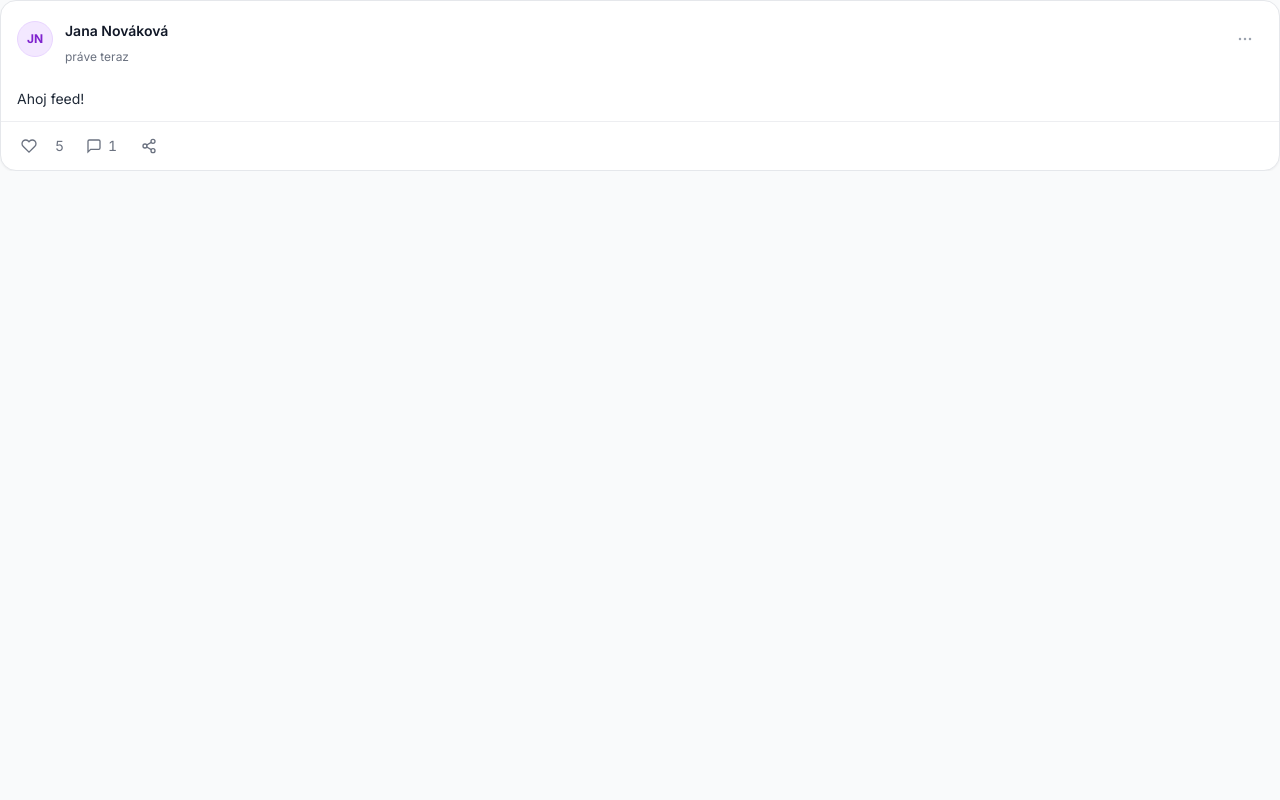
FeedPostCard – srdiečko vs. číslo lajkov › opens the list from the count without toggling the like
The image size is (1280, 800).
Click the button with test id "feed-like-count": (60, 146) [49, 128, 70, 164]
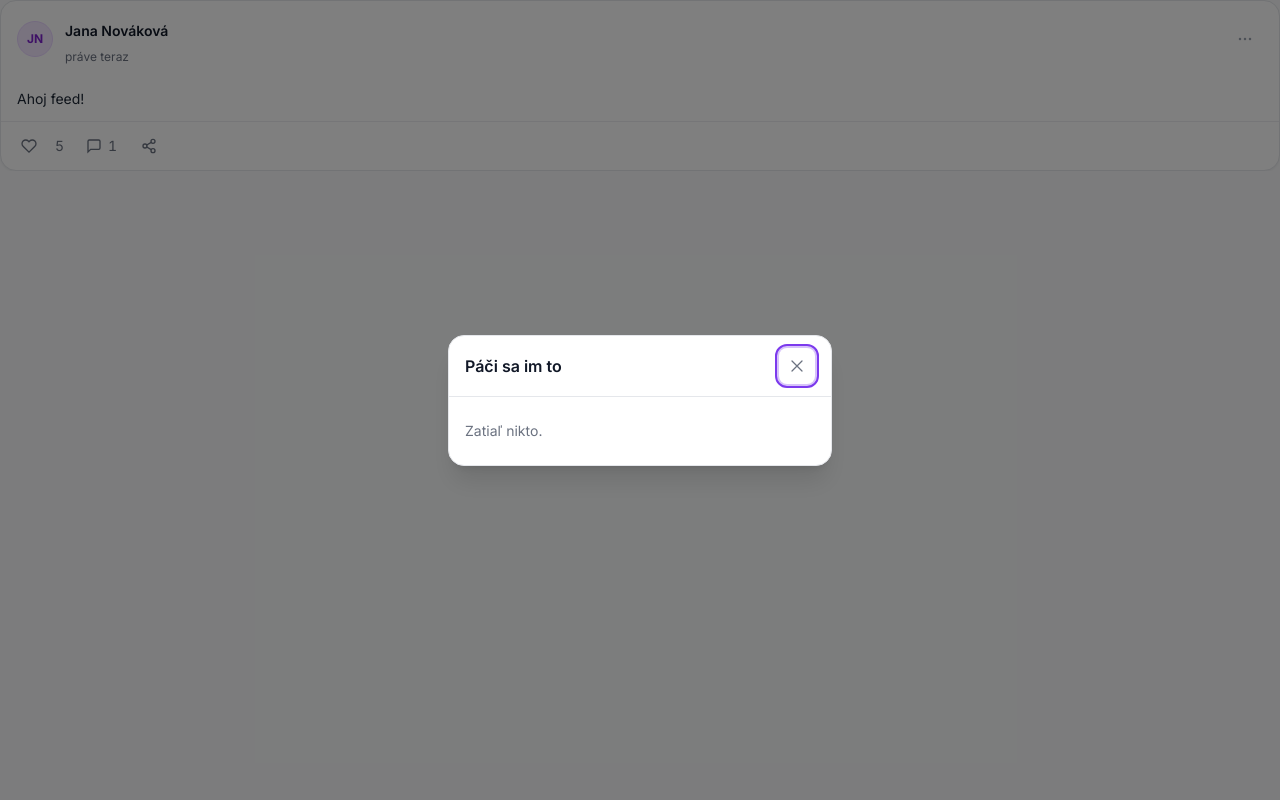
Now the dialog with test id "feed-likers-dialog" is shown
